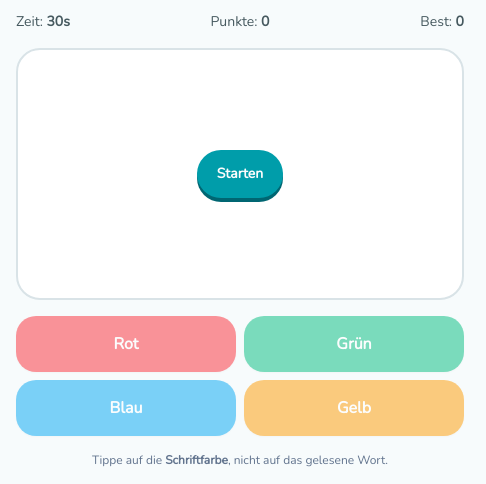
StroopGame › increments the score on a correct answer
Click the button "Starten".
click(240, 174)  # box [197,150,283,198]
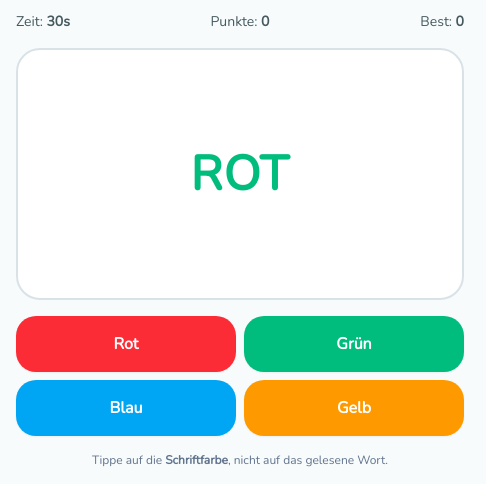
Expected: the text "0" is shown, [46,12,70,31]
Click the button "Grün".
click(354, 344)  # box [244,316,464,372]
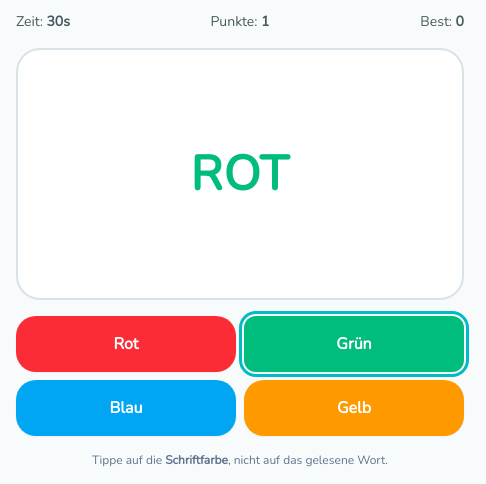
Result: the text "1" is shown at [261,12,269,31]
